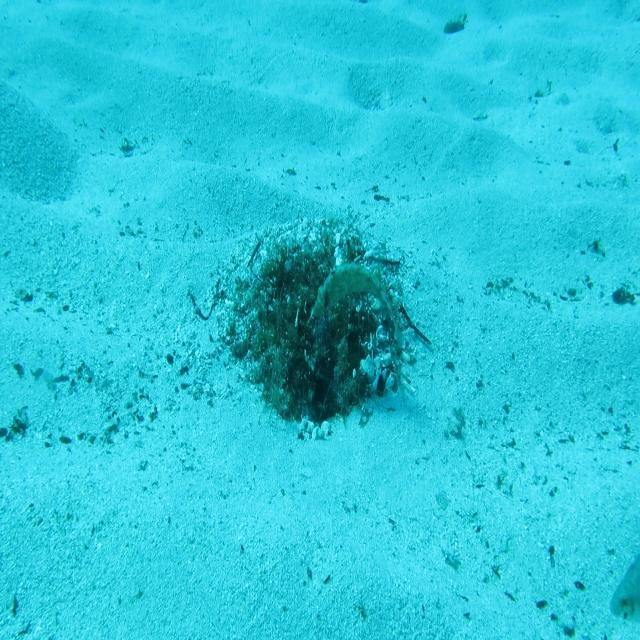BK_SW: (312, 260, 405, 349)
core_nest: (288, 264, 336, 312)
female: (608, 552, 640, 629)
nest: (203, 208, 416, 450)
vegetation: (442, 14, 470, 37)
